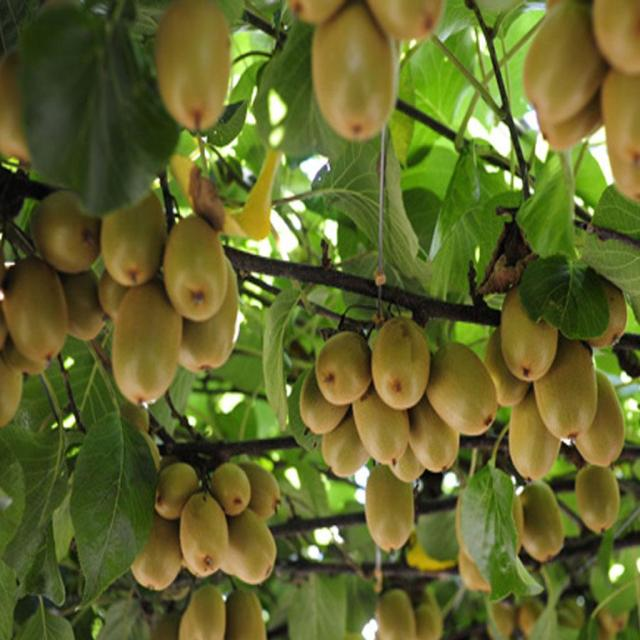kiwi: (306, 1, 396, 151), (517, 1, 612, 131), (152, 2, 240, 141), (109, 284, 185, 410), (2, 245, 74, 369), (426, 337, 505, 438), (161, 210, 232, 320), (179, 253, 240, 381), (98, 184, 172, 286), (535, 329, 598, 443), (29, 185, 107, 276), (368, 310, 436, 414), (506, 385, 565, 490), (499, 290, 564, 385), (578, 371, 629, 477), (363, 461, 419, 556), (315, 327, 377, 408), (514, 479, 570, 568), (179, 493, 232, 581), (55, 268, 114, 347), (3, 50, 39, 179), (365, 1, 456, 51), (353, 394, 414, 468), (227, 507, 282, 588), (129, 517, 185, 595), (527, 105, 615, 154), (587, 1, 640, 80), (588, 273, 634, 360), (600, 70, 640, 169), (575, 462, 627, 538), (409, 406, 463, 479), (297, 368, 352, 436), (484, 337, 530, 414), (320, 417, 373, 483), (177, 585, 235, 640), (244, 459, 289, 525), (154, 459, 202, 520), (278, 1, 363, 31), (228, 589, 276, 640), (212, 462, 254, 519), (373, 587, 418, 640), (1, 352, 32, 428), (485, 597, 519, 640), (598, 601, 635, 640), (519, 595, 551, 638), (417, 600, 448, 640)
